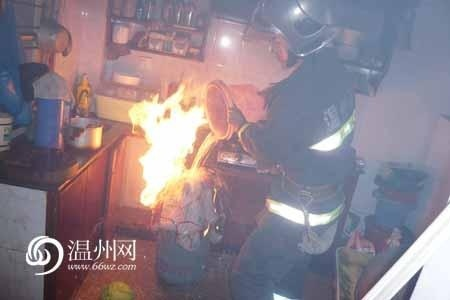fire: (130, 82, 211, 205)
